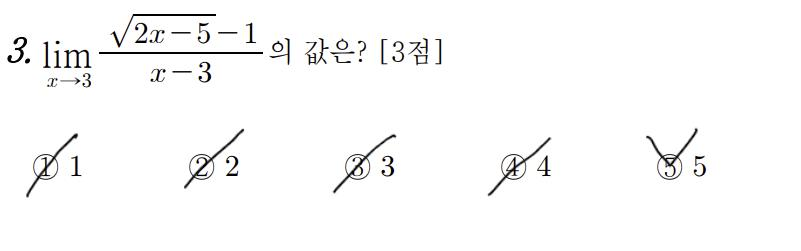1: (644, 129, 693, 184)
paper: (653, 149, 686, 183), (495, 151, 528, 185), (341, 150, 374, 184), (186, 150, 219, 184), (28, 150, 61, 184)
